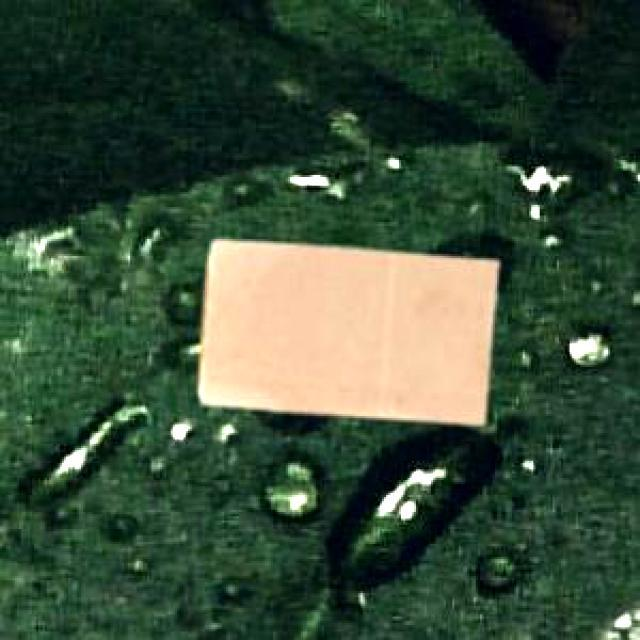Paper_Bag: (195, 238, 496, 421)
